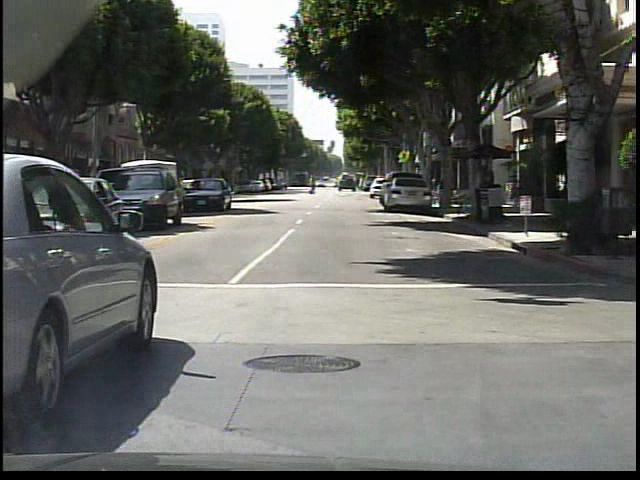person: (583, 166, 600, 238), (477, 164, 495, 222), (309, 177, 319, 196)
